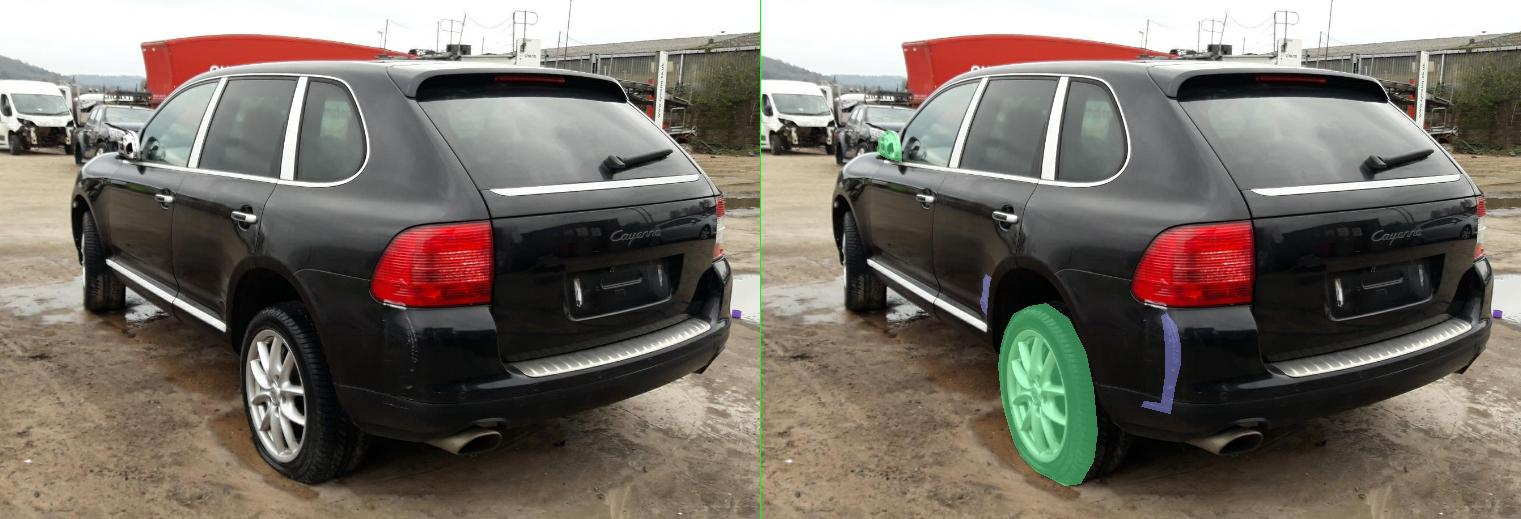Broken part: (474, 303, 672, 485), (232, 129, 280, 161)
Scratch: (760, 313, 839, 413), (438, 274, 460, 314)
